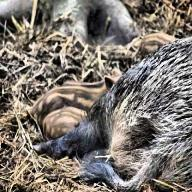boar: (44, 33, 192, 192), (35, 72, 118, 110), (39, 98, 83, 125)
